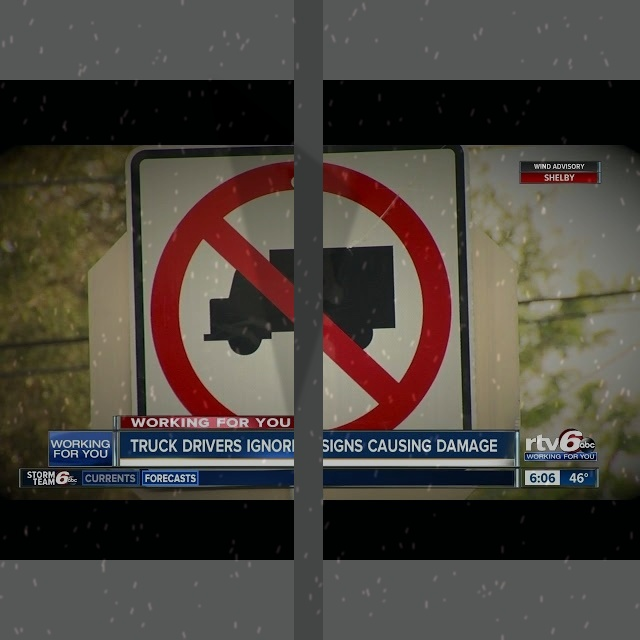Truck_Prohibited: (153, 167, 451, 416)
